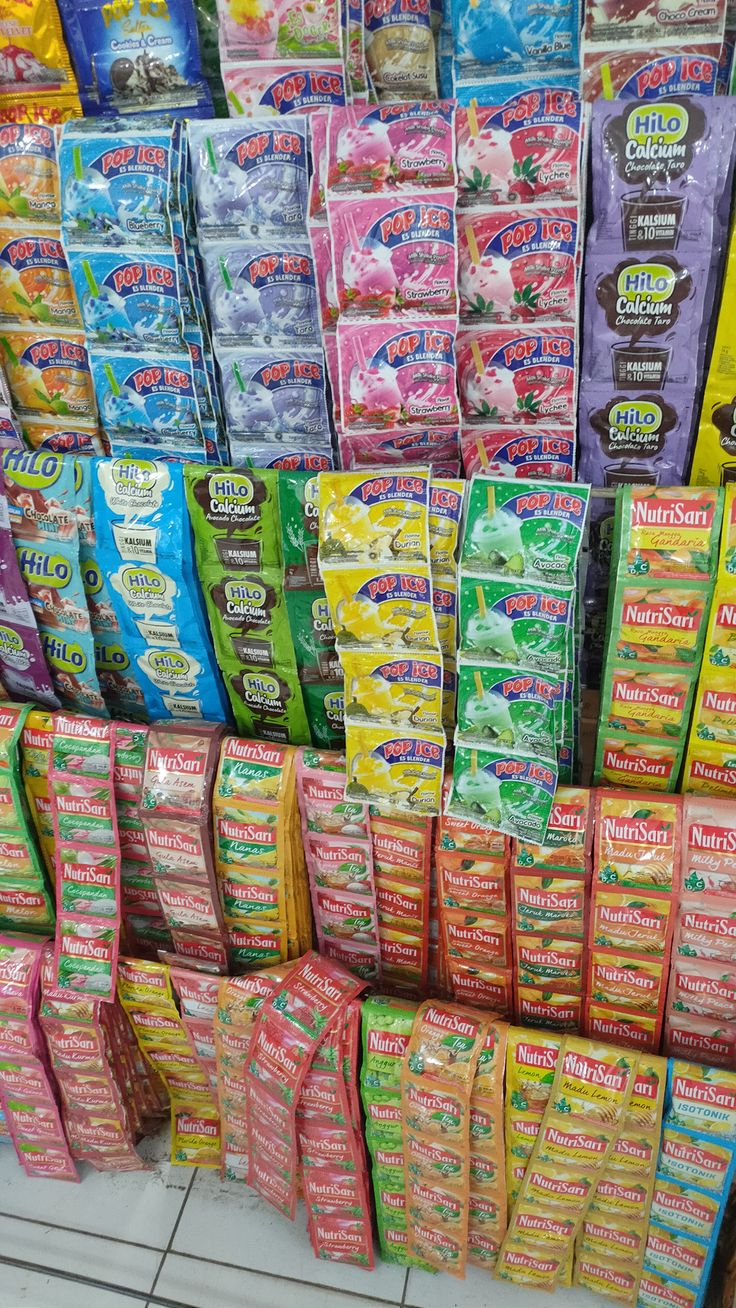Hilo Calcium: (185, 466, 282, 563)
NutriSari: (585, 880, 673, 968)
Pop Ice: (447, 200, 595, 348), (301, 439, 449, 587)
